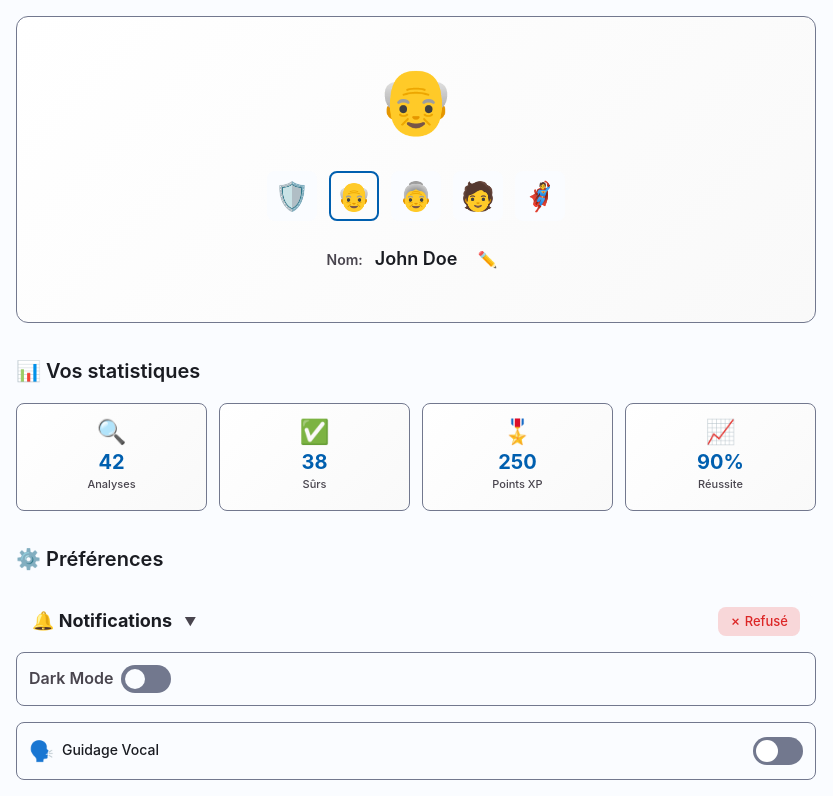
Test: AccountProfile Component › Name Editing › should cancel edit and revert changes
Click the button with class "btn-edit" at (487, 260), box x1=469 y1=246 x2=505 y2=273
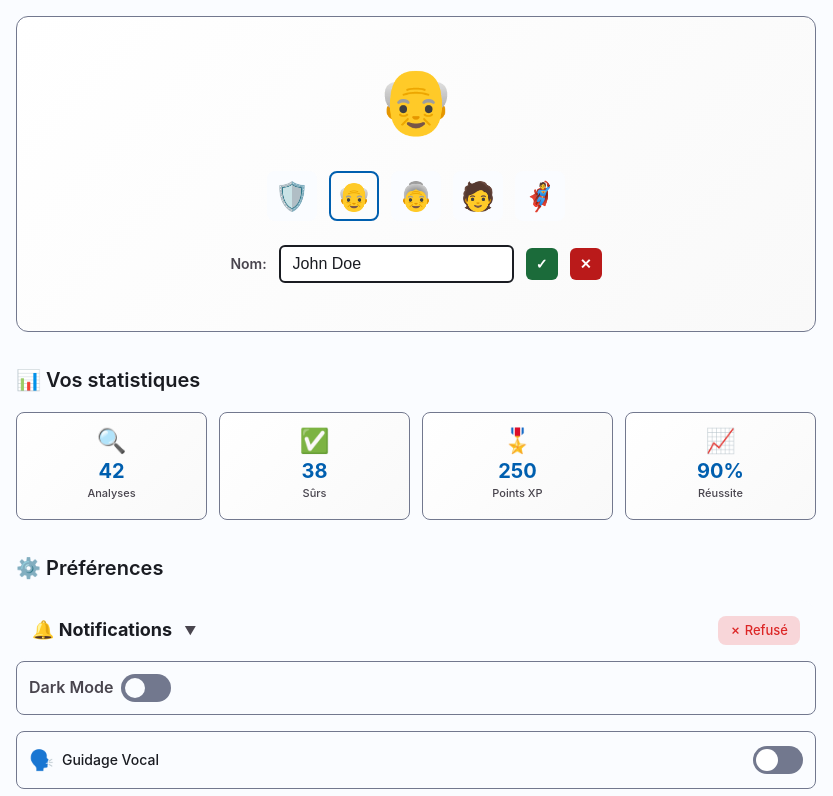
Replace the text in the field with class "name-input" with "Cancelled Name" at (396, 264), box x1=279 y1=245 x2=514 y2=283
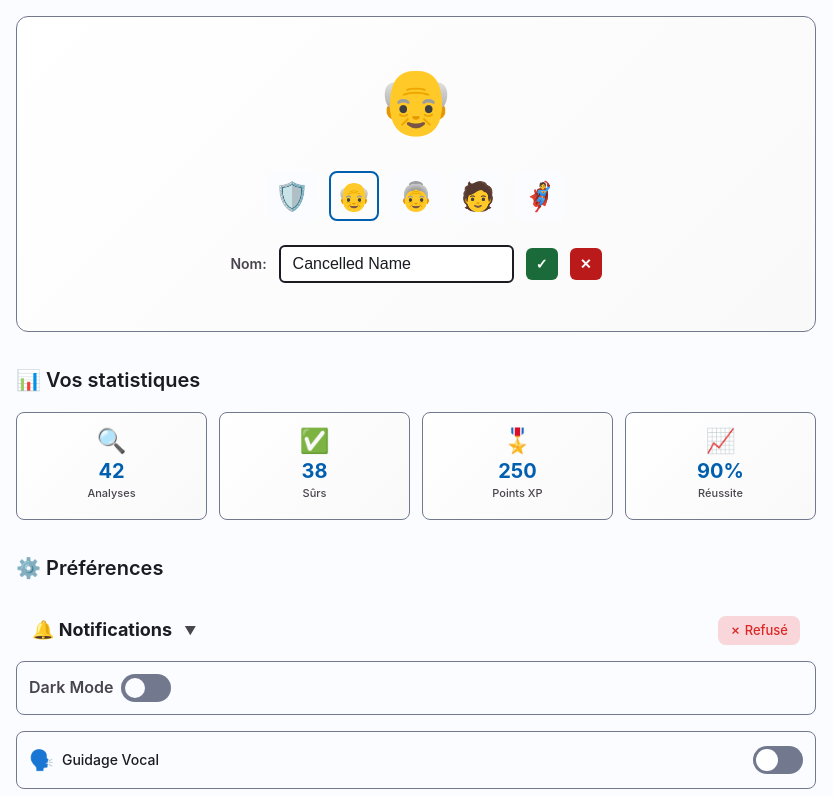
Click the button with class "btn-cancel" at (586, 264), box x1=570 y1=248 x2=602 y2=280
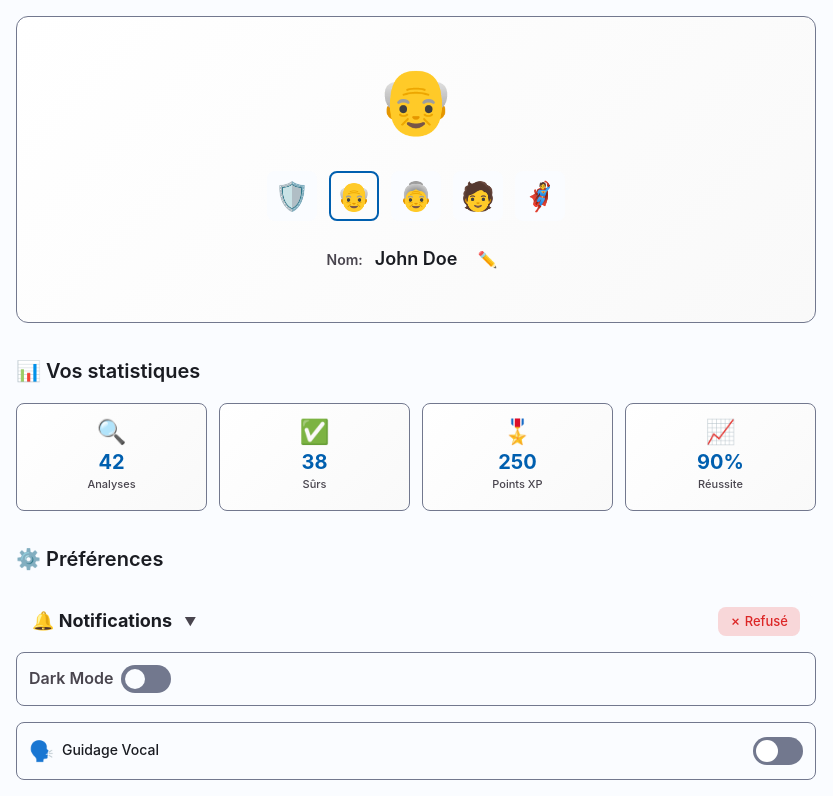
expect the text "John Doe" is shown: met, box x1=375 y1=245 x2=457 y2=274
